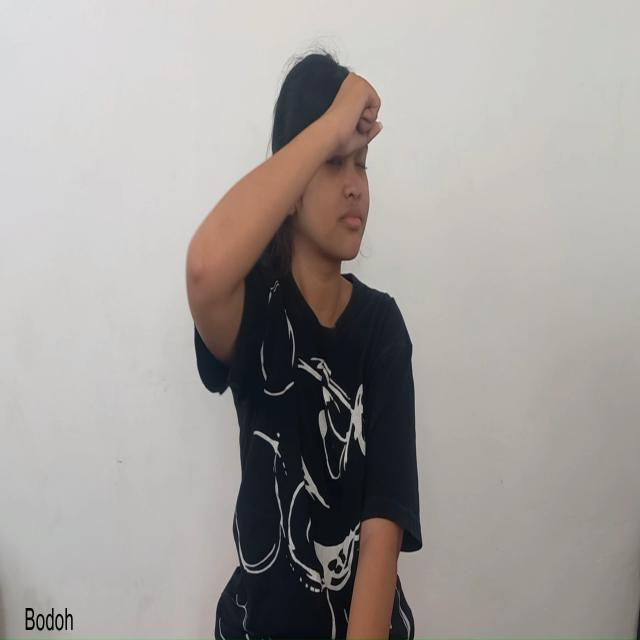Bodoh -BISINDO-: (220, 6, 402, 301)
